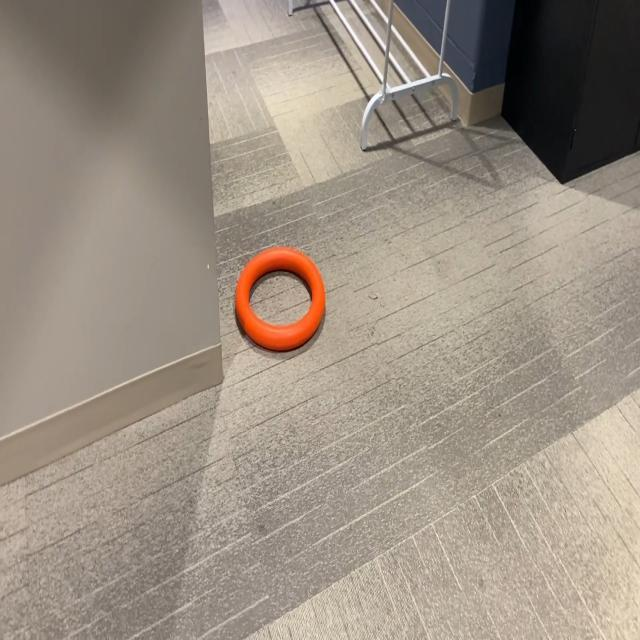note: (235, 244, 327, 355)
